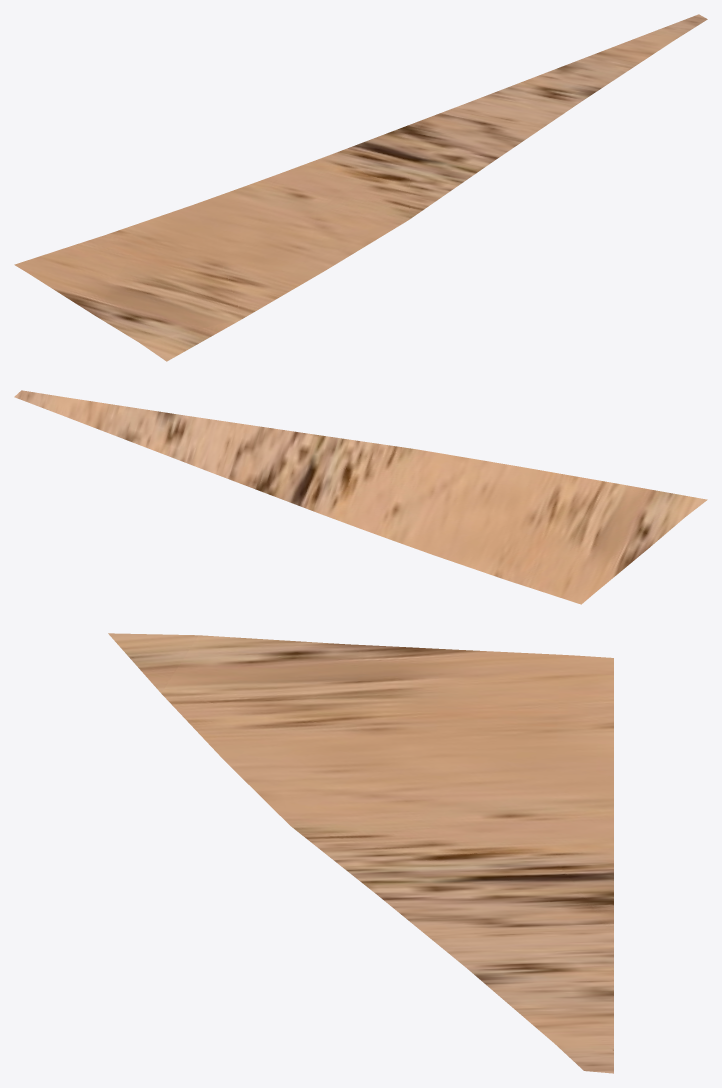
3 renders of one model, top to bottom at view 1: azimuth 30°, elevation 25°; view 2: azimuth 150°, elevation 25°; view 3: azimuth 270°, elevation 25°, orthographic. The views are drawn at different scales.
Bounding box in the file's own units: 2.09 × 0.2477 × 0.807.
1 material, 1 textured.
